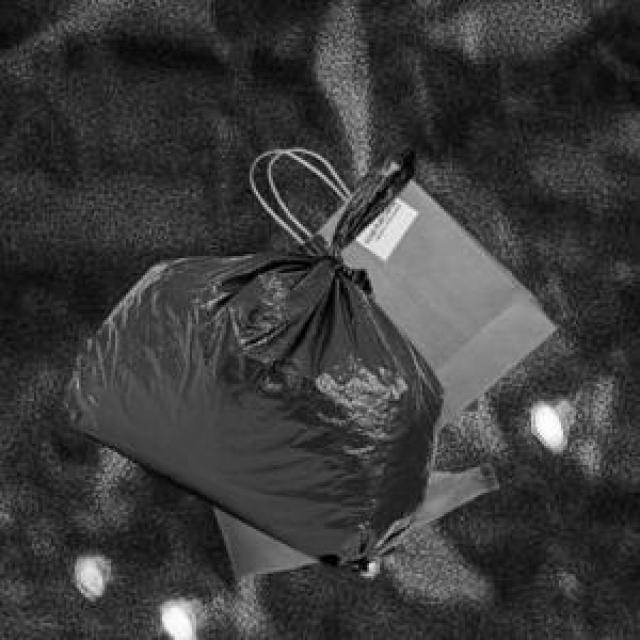miscellaneous trash: (60, 143, 440, 570)
paper: (265, 158, 553, 425)
